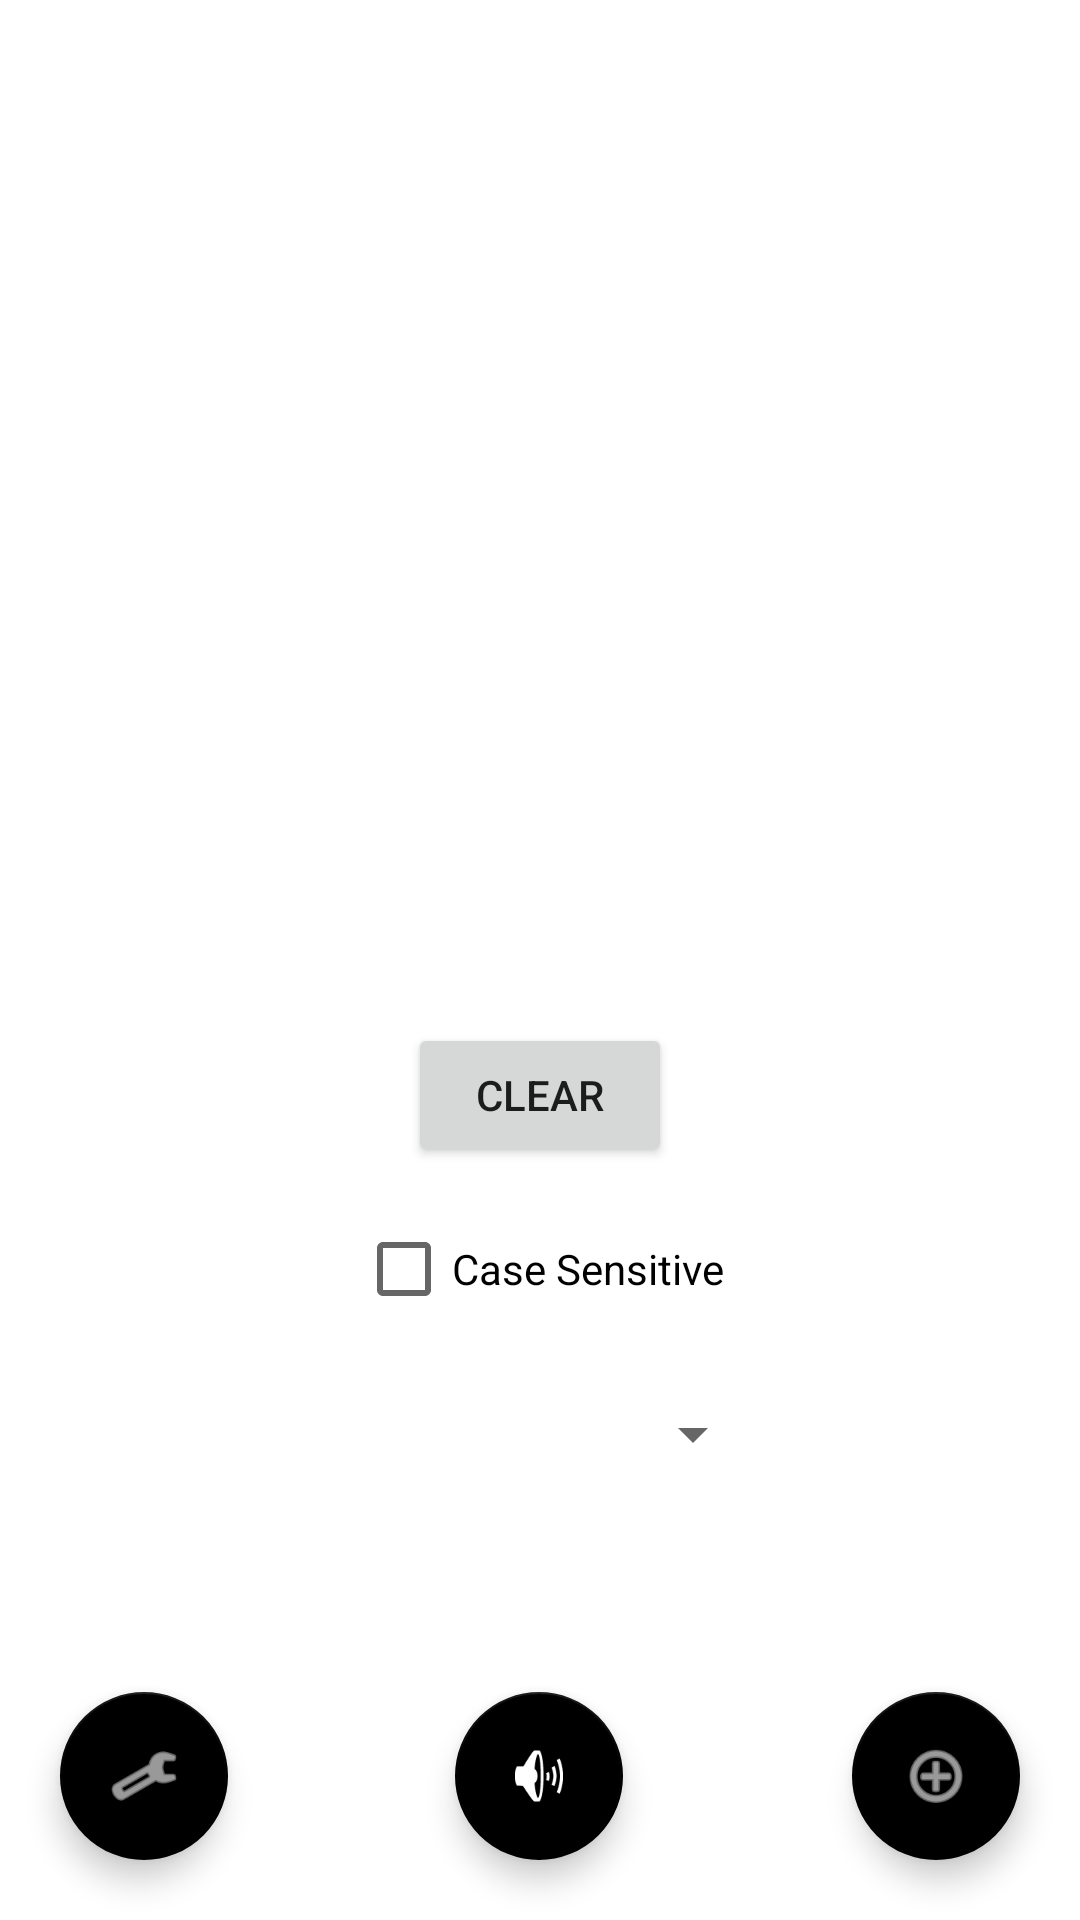

Icon click points for this 1080px x 1920px phone screenshot, format (x,y):
create button: (936,1776)
lock silent mode off: (539,1776)
preferences: (144,1776)
